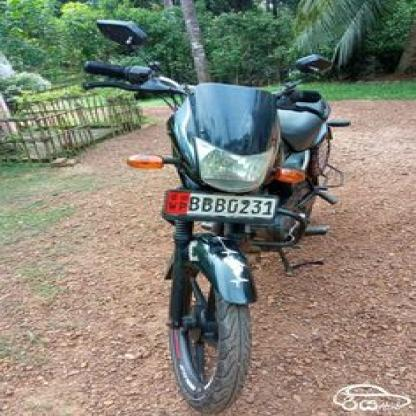bike front: (74, 15, 363, 416)
number plate: (164, 191, 275, 218)
